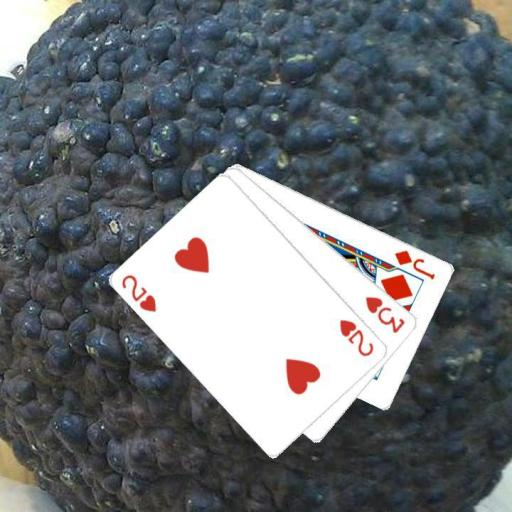2H: (119, 271, 159, 314), (337, 316, 377, 358)
3H: (362, 293, 407, 335)
JD: (392, 246, 437, 281)
